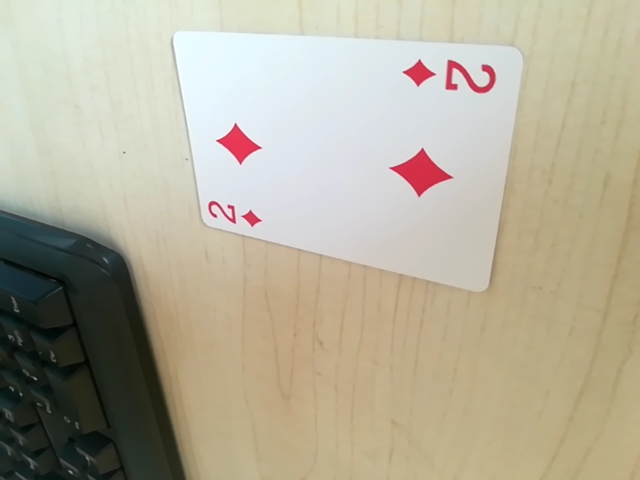fk 2: (401, 54, 504, 100), (203, 194, 270, 233)
